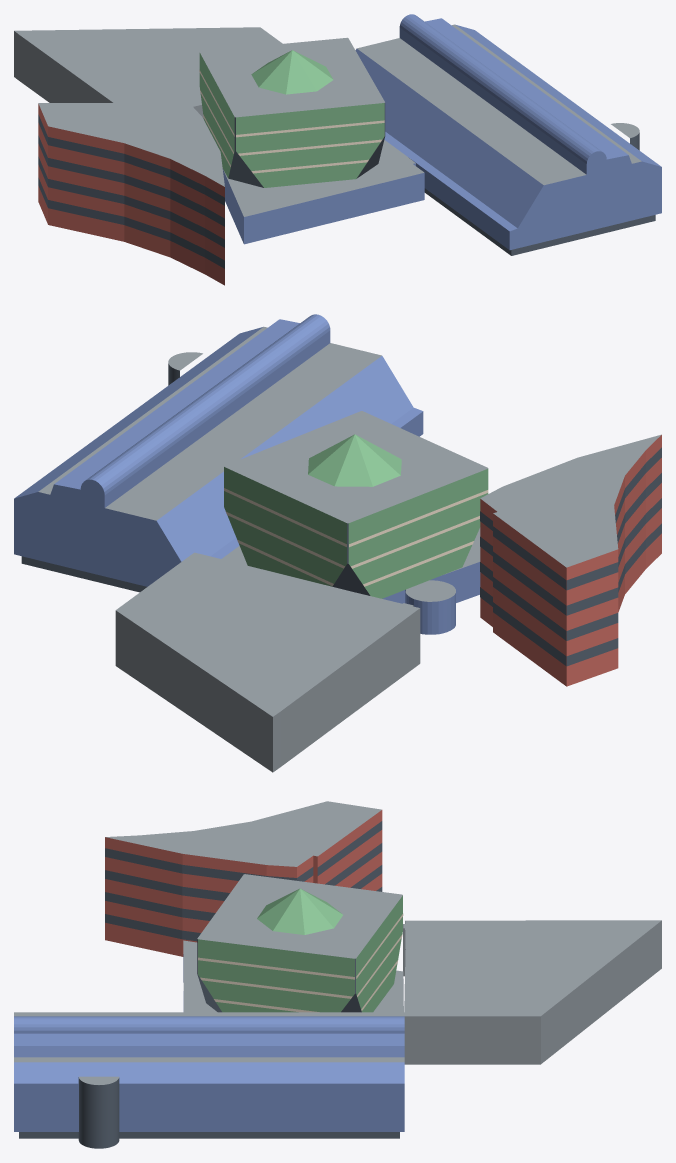
The model's file is la-pacific-design-center.glb.
3 renders of one model, top to bottom at view 1: azimuth 30°, elevation 25°; view 2: azimuth 150°, elevation 25°; view 3: azimuth 270°, elevation 25°, orthographic. The views are drawn at different scales.
Visible parts, largest first — view 1: Pacific Design Center; view 2: Pacific Design Center; view 3: Pacific Design Center.
Boxes of the visible parts, <box> form: Pacific Design Center: <box>14,14,661,285</box>; Pacific Design Center: <box>14,314,661,772</box>; Pacific Design Center: <box>14,801,661,1148</box>.
Bounding box in the file's own units: 239 × 61 × 268.
